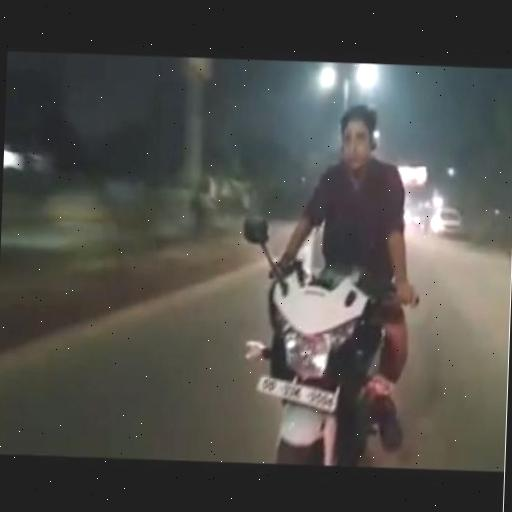no helmet: (239, 78, 440, 470)
